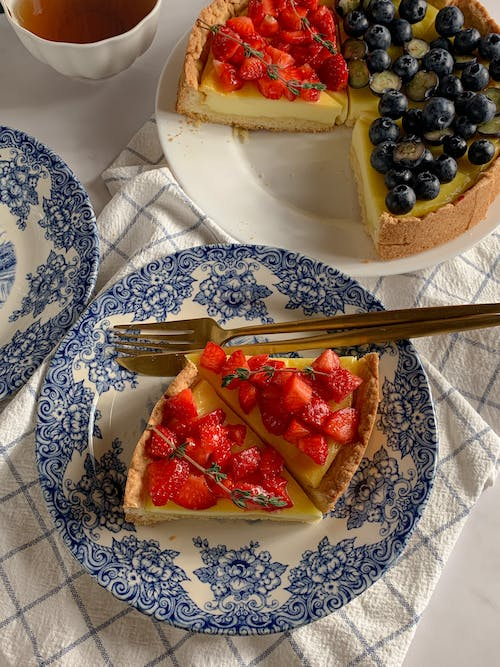knife: (113, 311, 500, 378)
